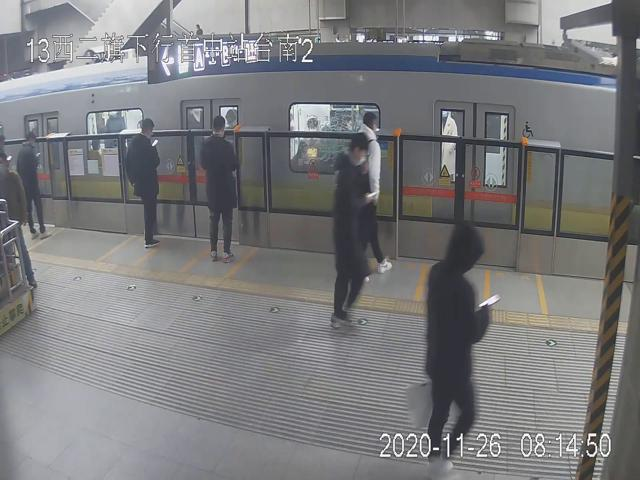person: (425, 217, 498, 472), (331, 136, 376, 330), (201, 116, 236, 266), (129, 118, 160, 250), (18, 131, 51, 241)
